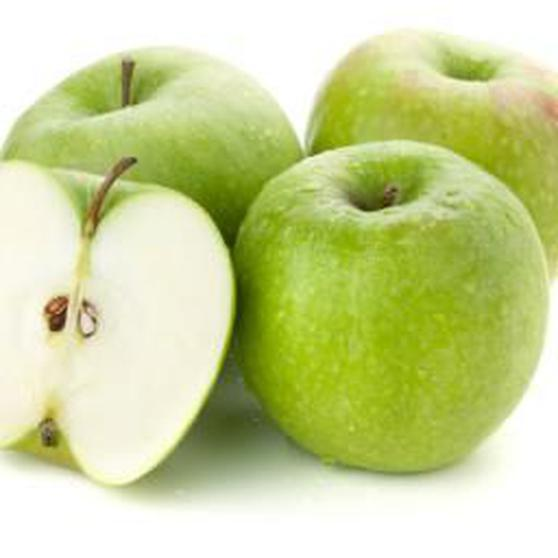apple: (201, 139, 548, 477)
